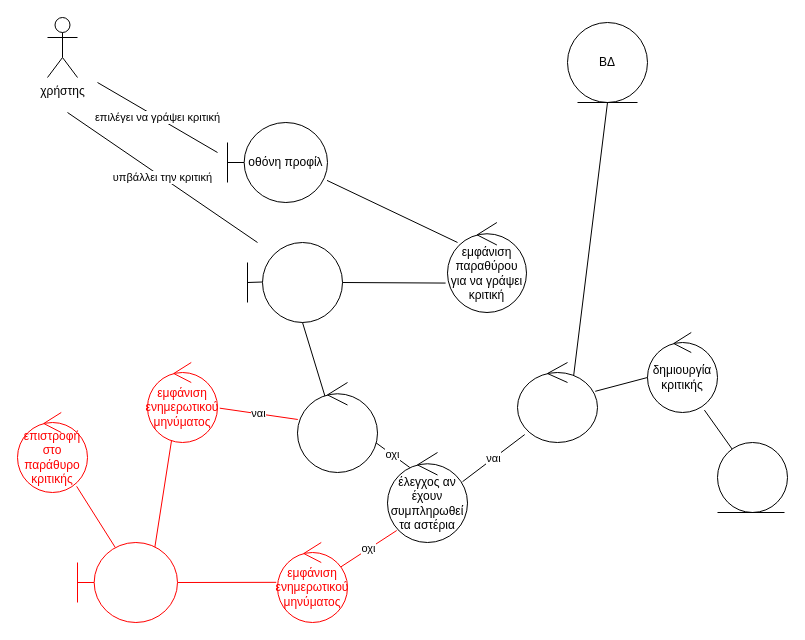
The diagram is 805 pixels wide and 640 high, and some of its shapes have lost their labels. The shapes that lost their labels are listed below. From the top down, each one's centre as x and y in pixels, then its label:
pixel 302 282: παράθυρο κριτικής
pixel 557 402: επικυρώνει την αποθήκευση
pixel 337 427: έλεγχος αν ξεπερνάει το όριο λέξεων
pixel 752 477: αξιολόγηση χρήστη
pixel 127 582: οθόνη μηνύματος
